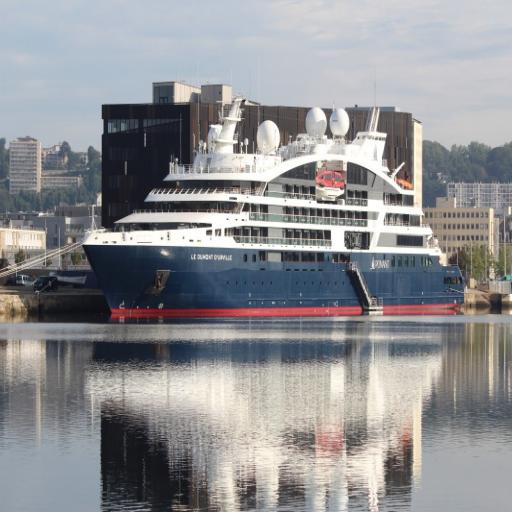cruises: (80, 97, 469, 325)
